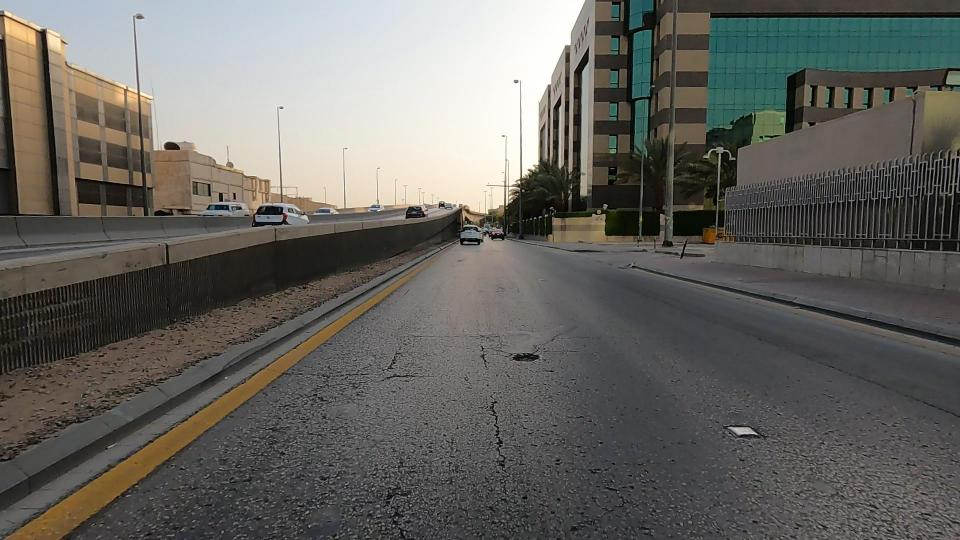POTHOLES: (446, 293, 597, 417), (456, 352, 540, 505)
